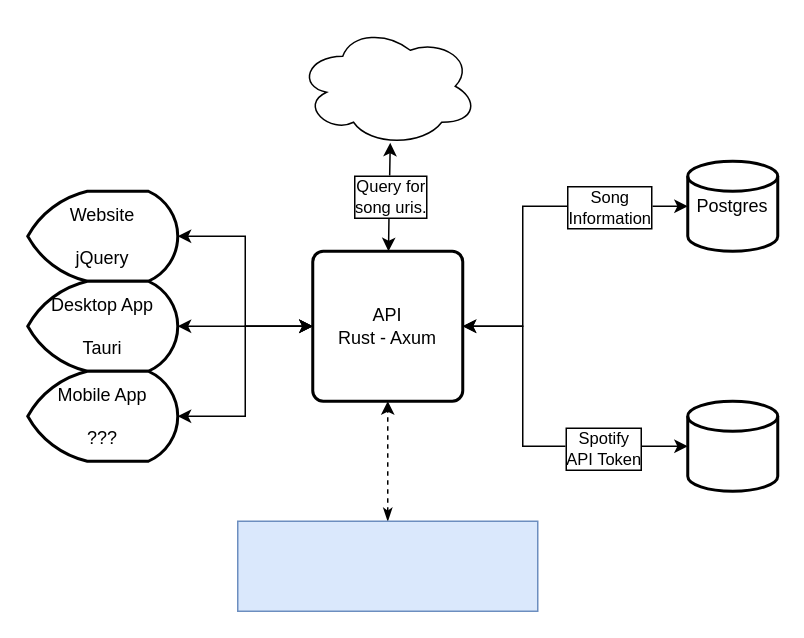
Image size: 804x638. Some labels were removed from this diagram. The shapes that lost their labels are listed below. From the top down, each one's centre as x and y in pixels, then its label:
point 387,85: Spotify
point 732,445: Redis
point 387,565: API: CRUD operations for songs, and querying Spotify API for songs
